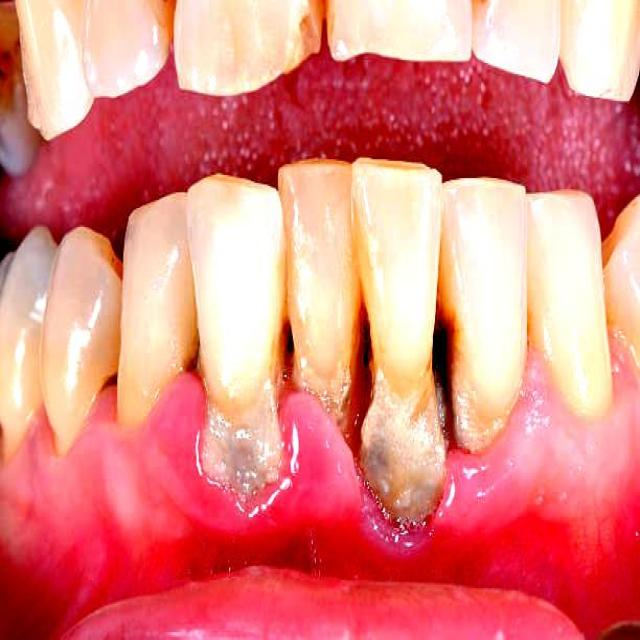caries: (274, 0, 328, 86)
